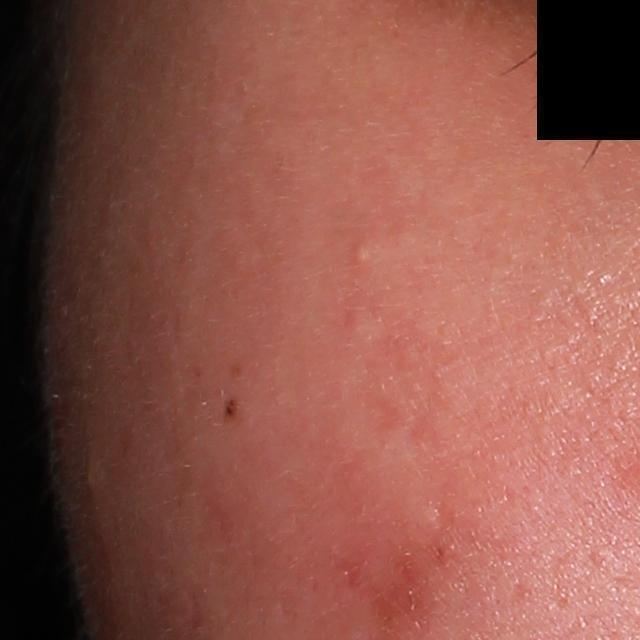nevus: (222, 395, 238, 423)
